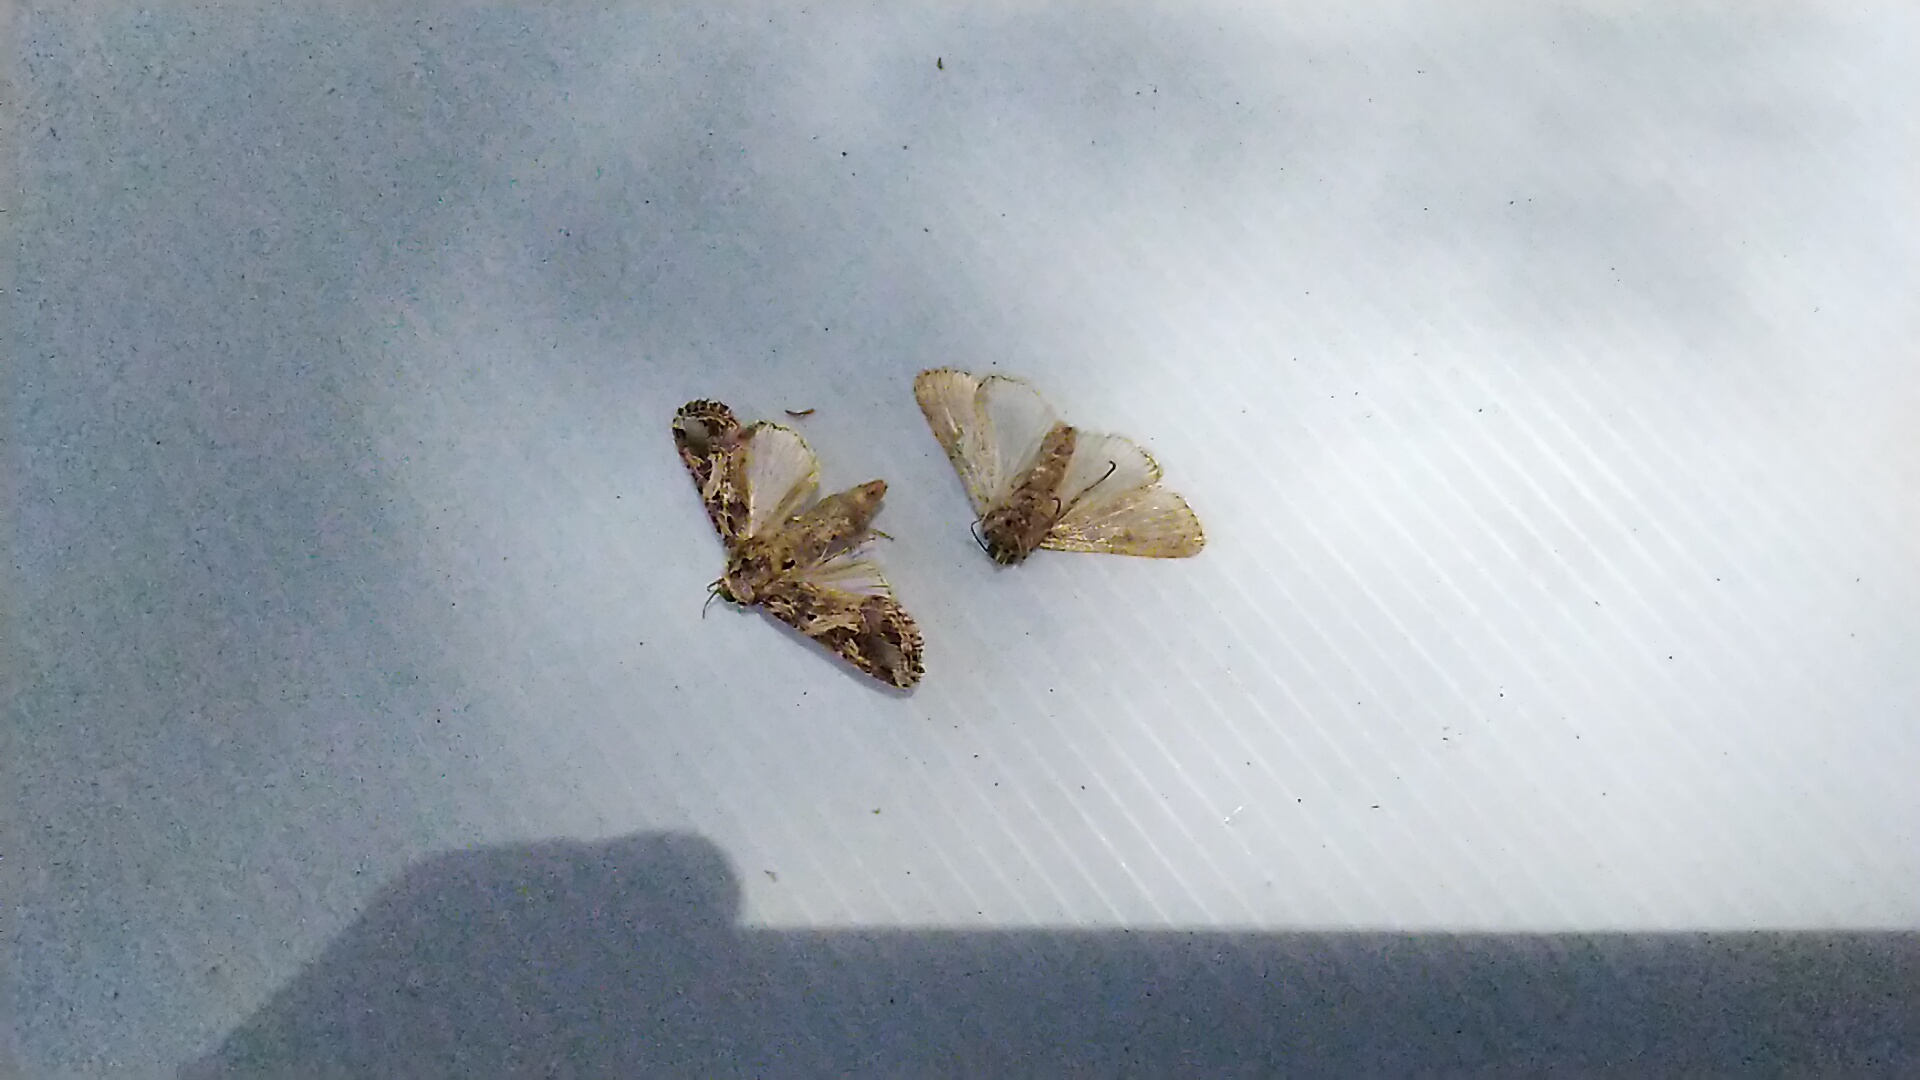INS-B: (658, 392, 924, 690), (905, 351, 1226, 578)
